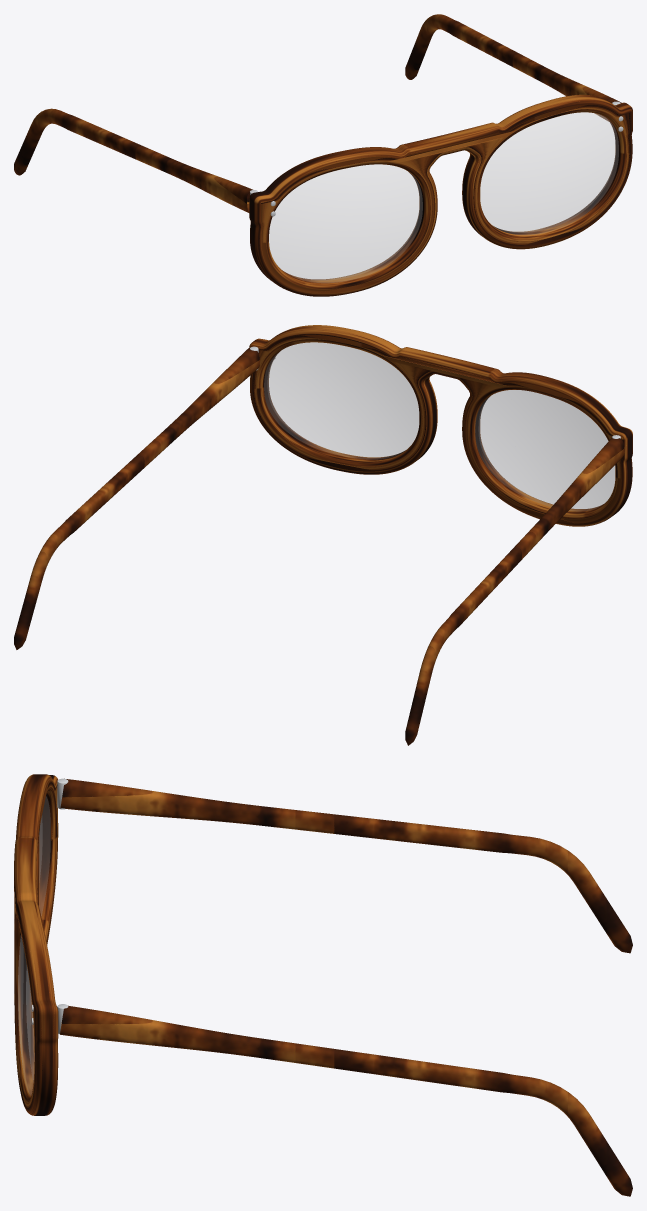
The model's file is nora-s.glb.
3 renders of one model, top to bottom at view 1: azimuth 30°, elevation 25°; view 2: azimuth 150°, elevation 25°; view 3: azimuth 270°, elevation 25°, orthographic. The views are drawn at different scales.
Visible parts, largest first — view 1: Front, Lens_R, Lens_L, Temple_R, Temple_L; view 2: Front, Lens_L, Lens_R, Temple_L, Temple_R; view 3: Front, Temple_L, Temple_R, Lens_L, Lens_R.
Boxes of the visible parts, x1=… form: Front: x1=249, y1=94, x2=632, y2=296; Lens_R: x1=269, y1=164, x2=422, y2=282; Lens_L: x1=480, y1=112, x2=618, y2=234; Temple_R: x1=14, y1=108, x2=252, y2=212; Temple_L: x1=405, y1=14, x2=621, y2=121; Front: x1=249, y1=325, x2=632, y2=526; Lens_L: x1=264, y1=342, x2=418, y2=459; Lens_R: x1=475, y1=390, x2=614, y2=511; Temple_L: x1=14, y1=348, x2=259, y2=649; Temple_R: x1=405, y1=438, x2=624, y2=745; Front: x1=14, y1=774, x2=68, y2=1115; Temple_L: x1=60, y1=1005, x2=632, y2=1196; Temple_R: x1=60, y1=778, x2=632, y2=953; Lens_L: x1=18, y1=937, x2=34, y2=1094; Lens_R: x1=39, y1=797, x2=50, y2=915.
Bounding box in the file's own units: 0.1298 × 0.053 × 0.1364.
Materials: 4 (2 with a texture image).
